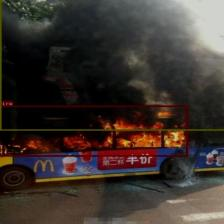fire: (0, 105, 187, 156)
smoke: (0, 0, 224, 130)
